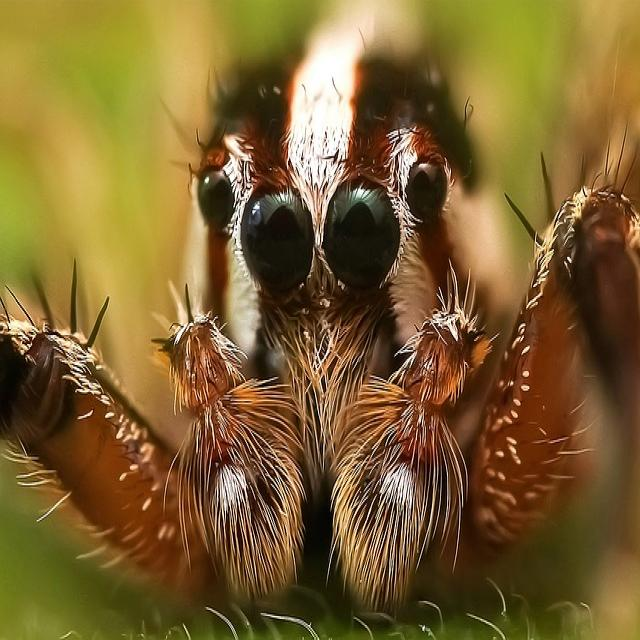spyder: (0, 60, 490, 609), (470, 188, 634, 542)
